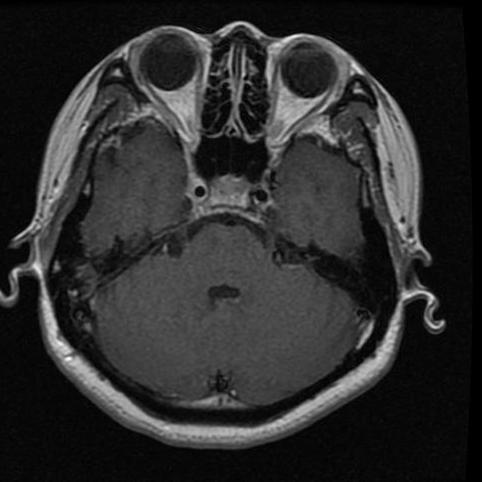Tumour-Pituitary: (180, 166, 280, 234)
